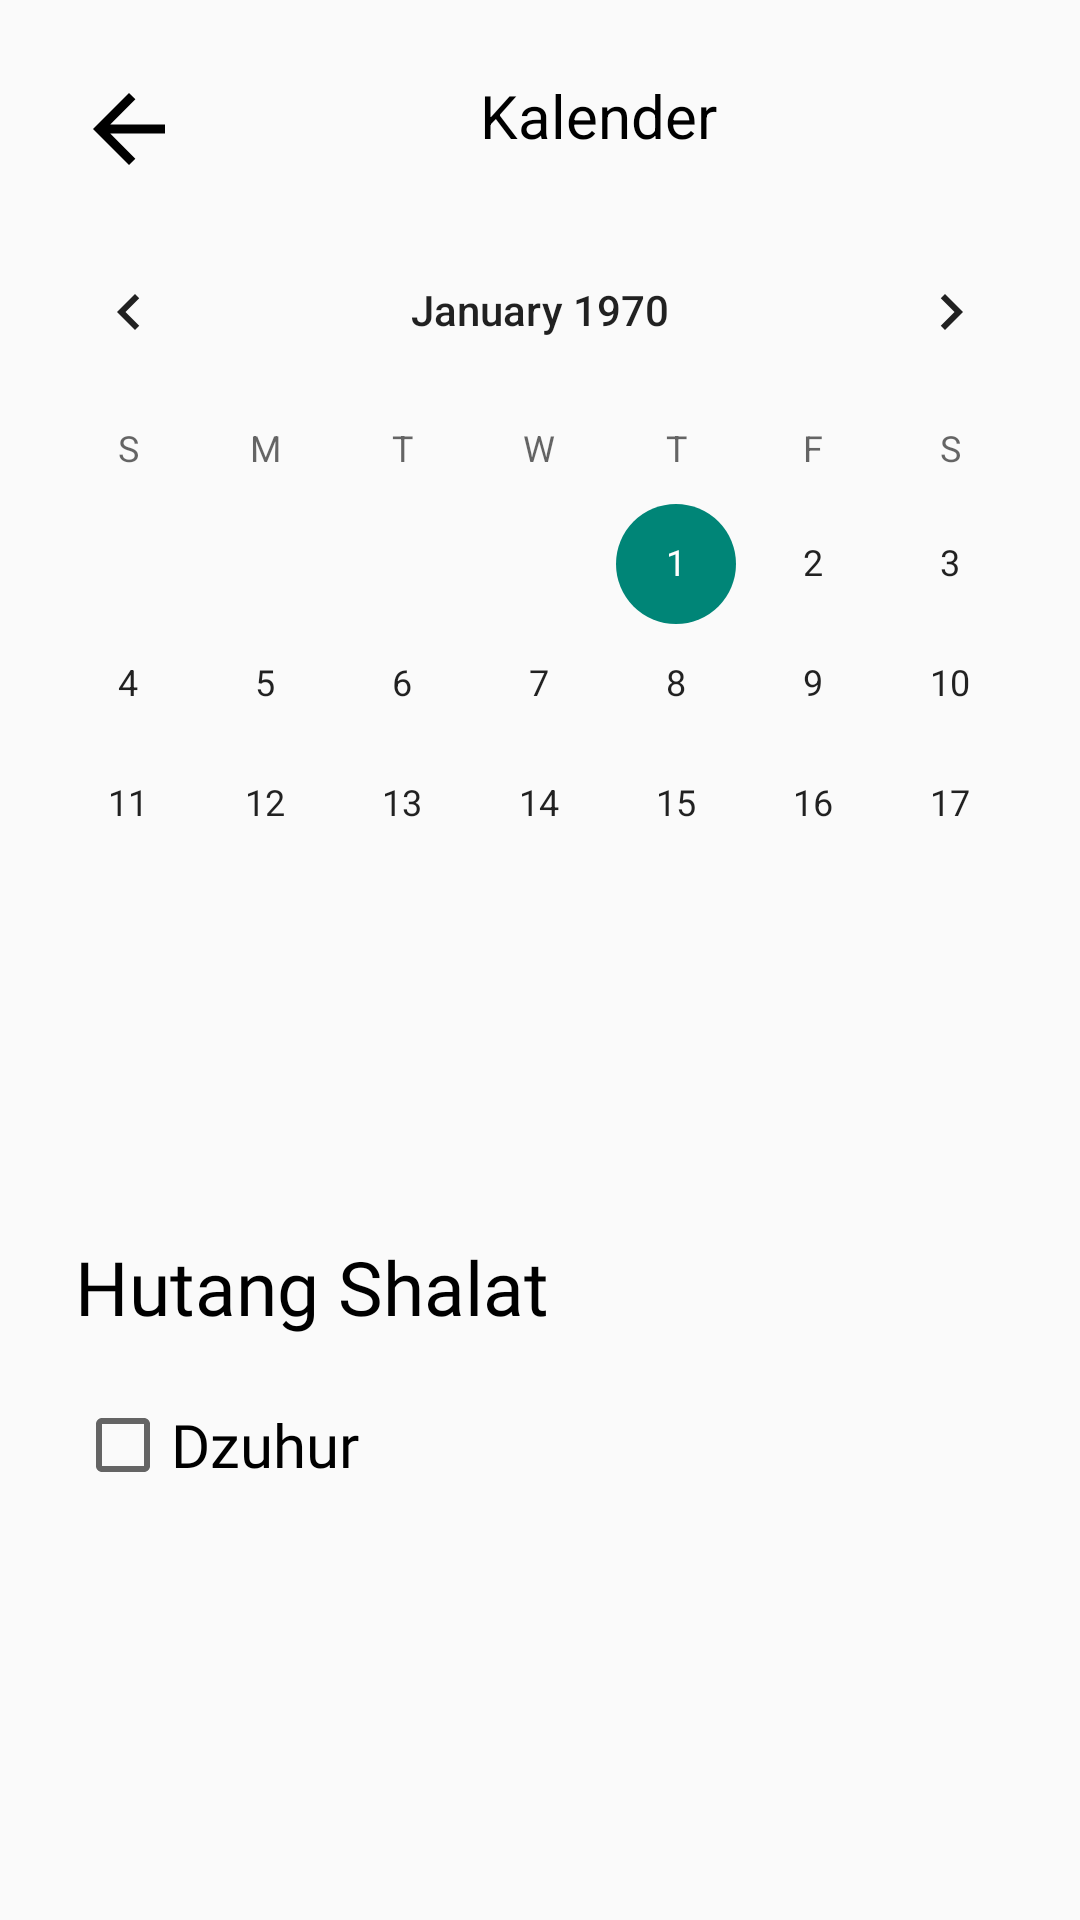

Locate icon controls on the screen. Image size 1080 × 1920, boxes as (x1, y1, x2, y2).
back: (93, 93, 165, 165)
